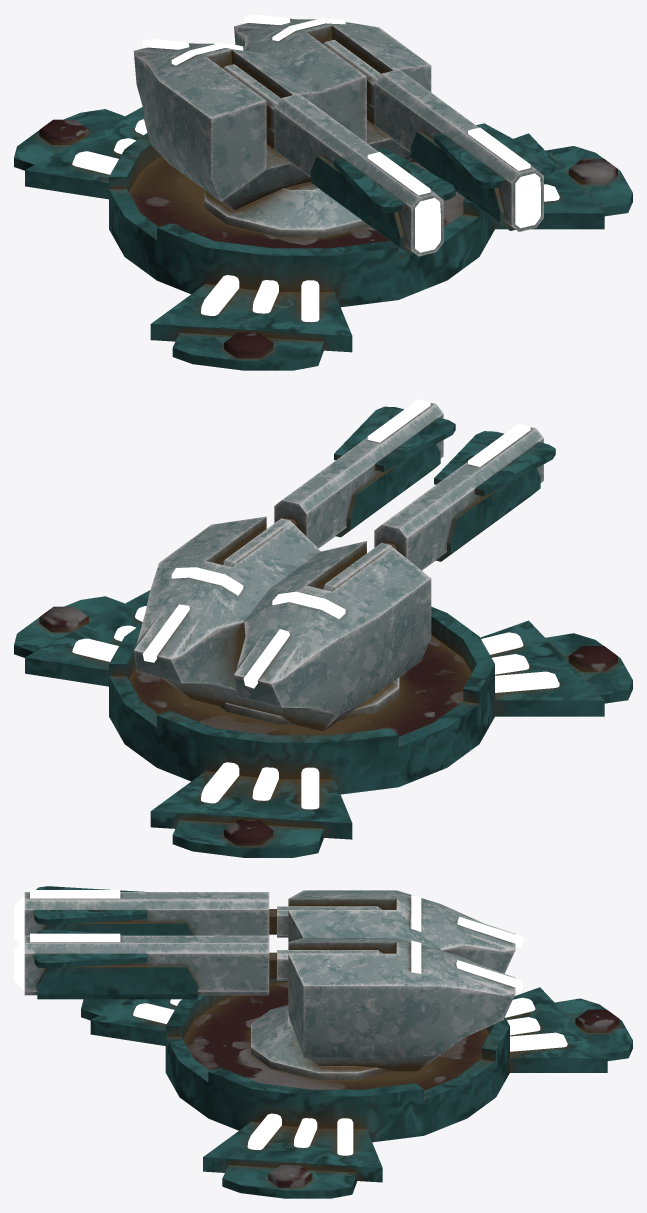
The model's file is Turret.fbx.
3 views of the same model, one above another, from view 1: azimuth 30°, elevation 25°; view 2: azimuth 150°, elevation 25°; view 3: azimuth 270°, elevation 25° (orthographic). The views are drawn at different scales.
Parts seen in each view (by area): view 1: Turret1Cannon, Turret1Base; view 2: Turret1Cannon, Turret1Base; view 3: Turret1Cannon, Turret1Base.
Part boxes in pixels (left/top/right/bottom): Turret1Cannon: left=134, top=14, right=555, bottom=256; Turret1Base: left=14, top=107, right=632, bottom=370; Turret1Cannon: left=134, top=399, right=555, bottom=731; Turret1Base: left=14, top=590, right=632, bottom=857; Turret1Cannon: left=14, top=886, right=524, bottom=1080; Turret1Base: left=81, top=978, right=632, bottom=1198.
Size of the model in its own units: 341 by 112 by 396.
